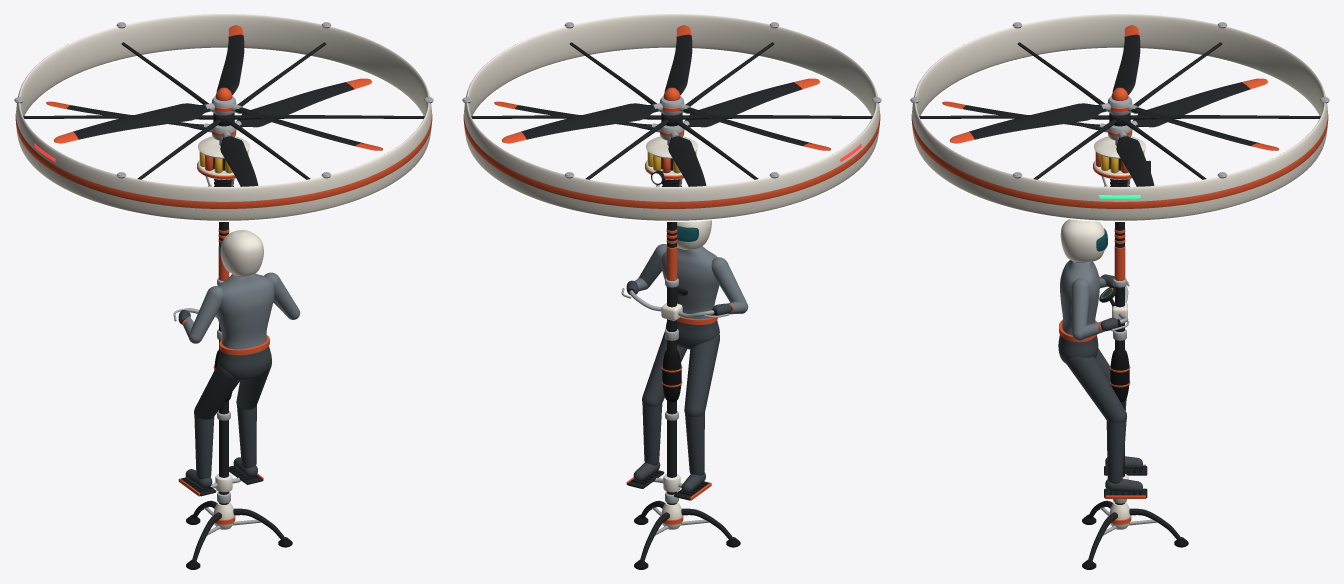
File: cubukkopter.glb
The picture shows the model from 3 angles, left to right: view 1: azimuth 30°, elevation 25°; view 2: azimuth 150°, elevation 25°; view 3: azimuth 270°, elevation 25°; orthographic projection.
Visible parts, largest first — view 1: Ring_Shell, Rider_RiderDark, Rider_RiderBody, RotorUpper_Carbon, Ring_Paint, RotorLower_Carbon, Ring_Carbon, Rider_Shell, Ring_Lamp, Foot_Carbon, Mast_Carbon, Pod_Shell (+1 smaller); view 2: Ring_Shell, Rider_RiderDark, Rider_RiderBody, RotorUpper_Carbon, Ring_Paint, RotorLower_Carbon, Ring_Carbon, Ring_Lamp, Mast_Carbon, Foot_Carbon, Mast_Rubber, Mast_Paint (+3 smaller); view 3: Ring_Shell, Rider_RiderDark, RotorUpper_Carbon, Ring_Paint, RotorLower_Carbon, Ring_Carbon, Rider_RiderBody, Rider_Shell, Ring_Lamp, Foot_Carbon, Mast_Rubber, Pod_Shell (+3 smaller).
Part boxes in pixels (<box>): Ring_Shell: <box>16,14,431,220</box>; Rider_RiderDark: <box>178,310,271,489</box>; Rider_RiderBody: <box>183,272,300,349</box>; RotorUpper_Carbon: <box>73,34,363,146</box>; Ring_Paint: <box>15,110,432,208</box>; RotorLower_Carbon: <box>67,82,354,186</box>; Ring_Carbon: <box>23,42,424,179</box>; Rider_Shell: <box>220,230,263,276</box>; Ring_Lamp: <box>18,47,429,221</box>; Foot_Carbon: <box>192,500,285,560</box>; Mast_Carbon: <box>219,222,228,504</box>; Pod_Shell: <box>197,136,249,179</box>; Ring_Shell: <box>464,14,879,220</box>; Rider_RiderDark: <box>626,280,731,493</box>; Rider_RiderBody: <box>635,244,748,319</box>; RotorUpper_Carbon: <box>521,34,811,146</box>; Ring_Paint: <box>463,110,880,208</box>; RotorLower_Carbon: <box>515,82,802,186</box>; Ring_Carbon: <box>471,42,872,179</box>; Ring_Lamp: <box>466,47,877,221</box>; Mast_Carbon: <box>667,222,676,504</box>; Foot_Carbon: <box>640,500,733,560</box>; Mast_Rubber: <box>662,350,681,402</box>; Mast_Paint: <box>661,228,682,387</box>; Ring_Shell: <box>912,14,1327,220</box>; Rider_RiderDark: <box>1058,274,1142,492</box>; RotorUpper_Carbon: <box>969,34,1259,146</box>; Ring_Paint: <box>911,111,1328,208</box>; RotorLower_Carbon: <box>963,82,1250,186</box>; Ring_Carbon: <box>919,42,1320,179</box>; Rider_RiderBody: <box>1060,260,1107,340</box>; Rider_Shell: <box>1060,219,1104,262</box>; Ring_Lamp: <box>914,47,1325,221</box>; Foot_Carbon: <box>1088,500,1181,560</box>; Mast_Rubber: <box>1110,350,1129,401</box>; Pod_Shell: <box>1093,136,1145,179</box>.
Bounding box in the file's own units: 2.55 × 3.09 × 2.57.
